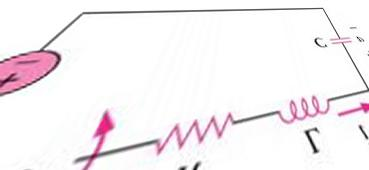inductor: (265, 95, 332, 125)
